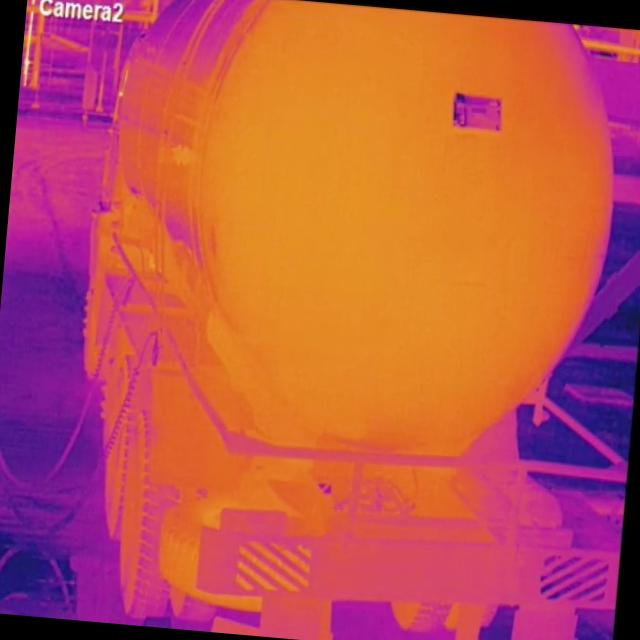tank: (178, 0, 629, 463)
